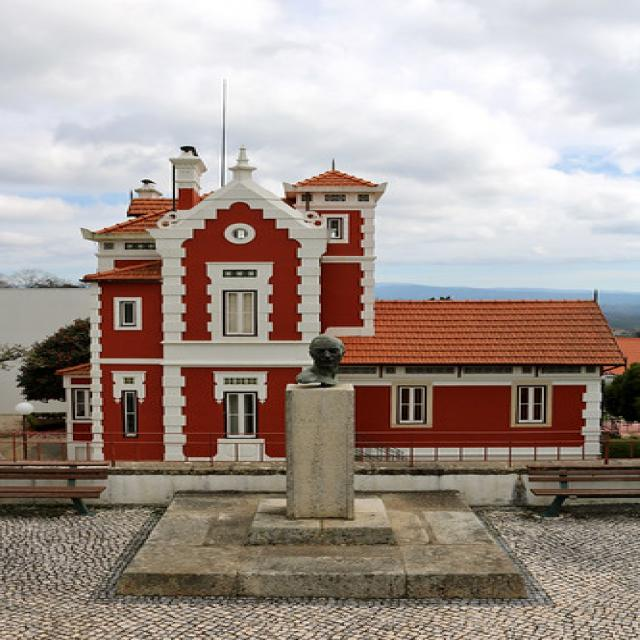Normal_building: (68, 142, 626, 480)
